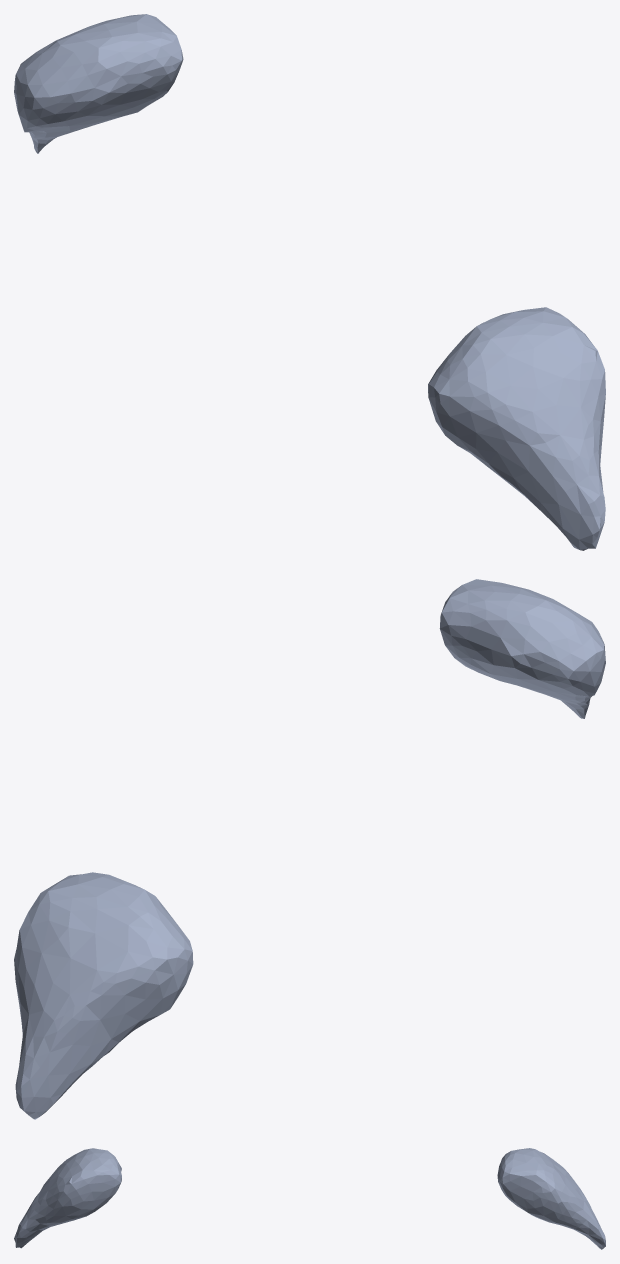
3 renders of one model, top to bottom at view 1: azimuth 30°, elevation 25°; view 2: azimuth 150°, elevation 25°; view 3: azimuth 270°, elevation 25°, orthographic. The views are drawn at different scales.
Visible parts, largest first — view 1: 1031.obj; view 2: 1031.obj; view 3: 1031.obj.
Part boxes in pixels (x1,y1,x2,y2): 1031.obj: [14, 14, 605, 550]; 1031.obj: [14, 579, 605, 1119]; 1031.obj: [14, 1148, 605, 1249].
Bounding box in the file's own units: 792 × 906 × 5115.
